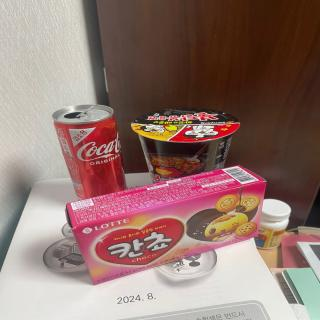cocacola: (48, 104, 132, 198)
